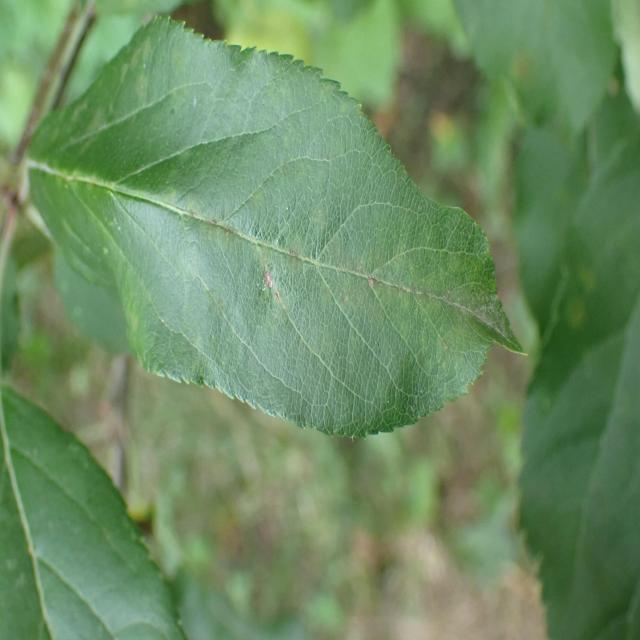scab: (84, 21, 518, 377)
